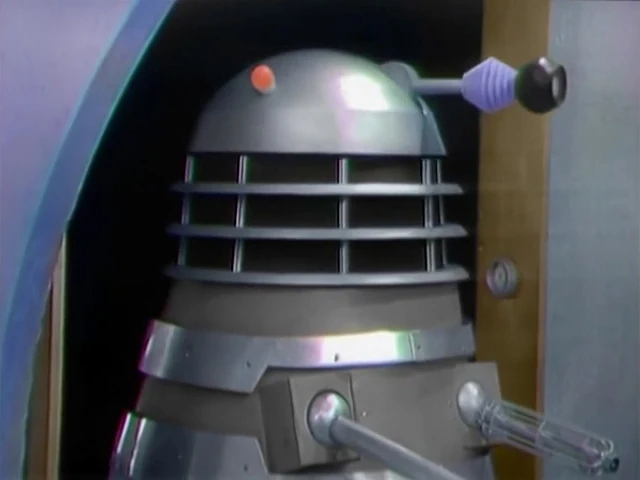Dalek: (108, 36, 512, 479)
